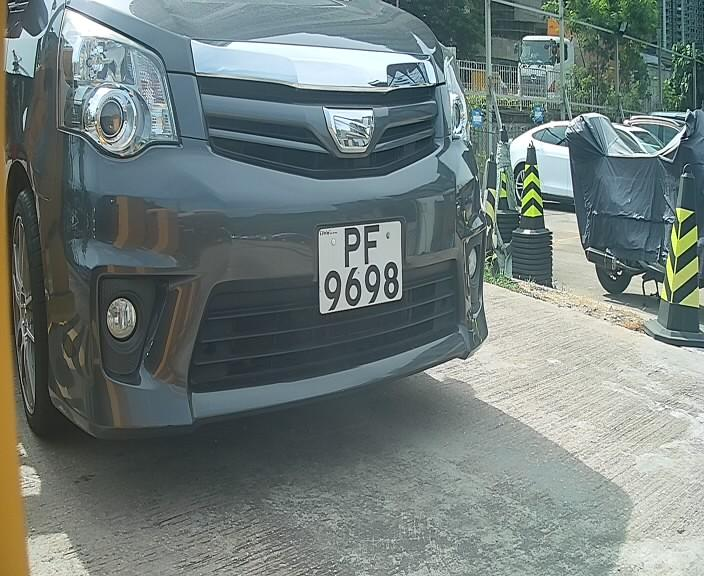Car: (1, 1, 541, 471)
License Plate: (309, 209, 412, 327)
